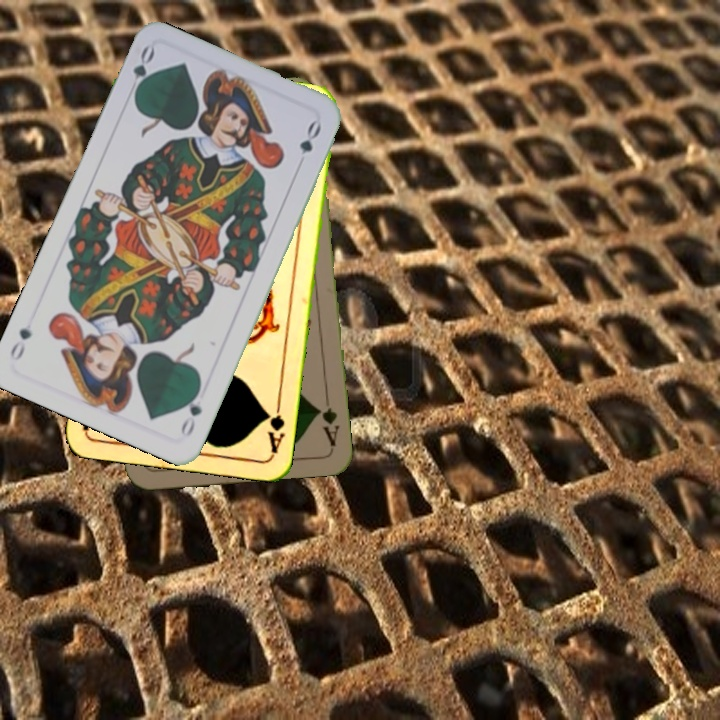GA: (261, 397, 288, 456), (313, 404, 342, 449)
GO: (128, 42, 158, 101), (176, 382, 205, 440)
